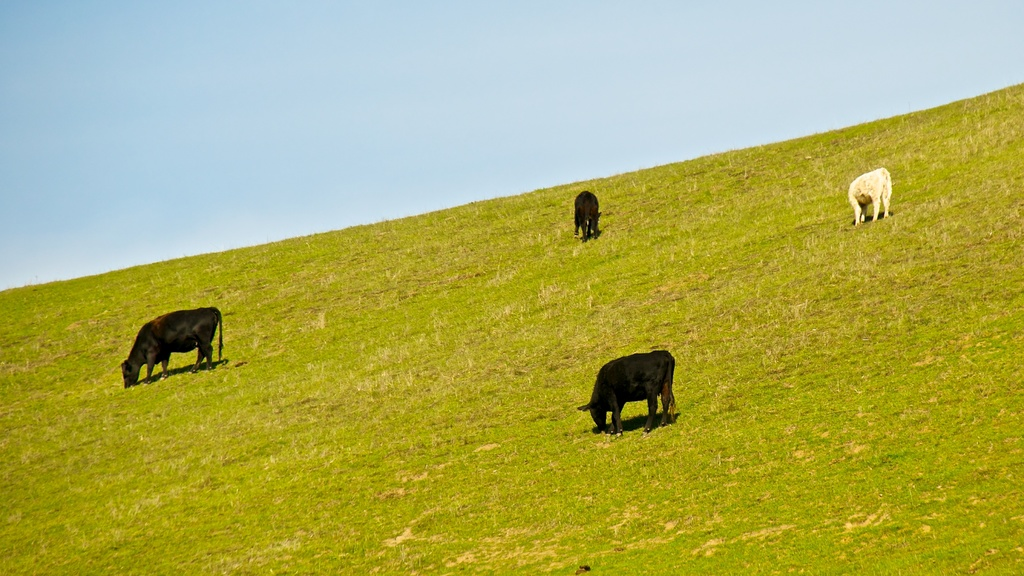sheep: (836, 157, 894, 233)
